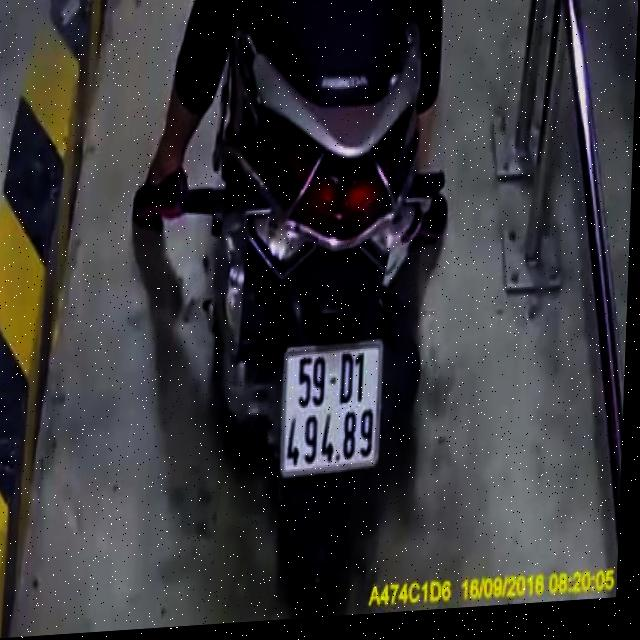motorcycle: (195, 0, 444, 625)
plate: (270, 331, 391, 486)
